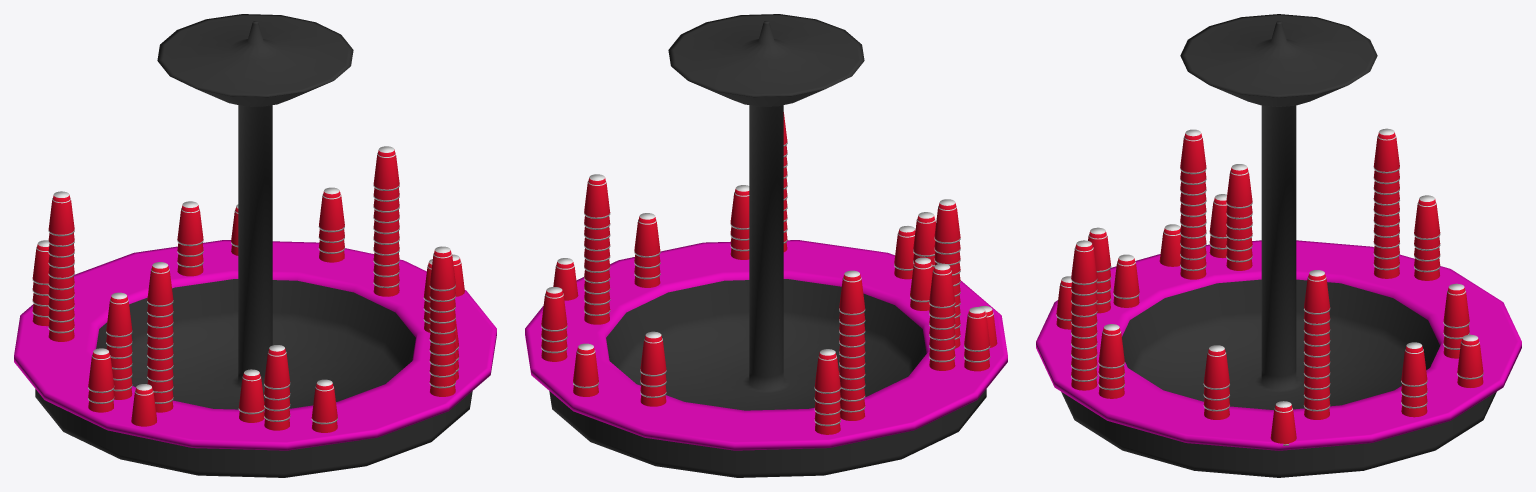
File: VodkaFountain_01.fbx
3 renders of one model, left to right at view 1: azimuth 30°, elevation 25°; view 2: azimuth 150°, elevation 25°; view 3: azimuth 270°, elevation 25°, orthographic.
Visible parts, largest first — view 1: Foutain, Cups.003, Cups.018, Cups.008, Cups.013, Cups.016, Cups.012, Cups.017, Cups.005, Cups.015, Cups.004, Cups.010 (+2 smaller); view 2: Foutain, Cups.018, Cups.003, Cups.016, Cups.013, Cups.004, Cups.007, Cups.017, Cups.005, Cups.015, Cups.009, Cups.006 (+5 smaller); view 3: Foutain, Cups.008, Cups.013, Cups.003, Cups.018, Cups.016, Cups.004, Cups.009, Cups.017, Cups.007, Cups.005, Cups.012 (+6 smaller).
Part boxes in pixels (<box>): Foutain: <box>14,14,496,477</box>; Cups.003: <box>48,191,74,341</box>; Cups.018: <box>373,146,399,296</box>; Cups.008: <box>429,246,455,396</box>; Cups.013: <box>147,262,173,412</box>; Cups.016: <box>106,292,132,399</box>; Cups.012: <box>264,345,290,430</box>; Cups.017: <box>318,187,344,262</box>; Cups.005: <box>177,201,203,276</box>; Cups.015: <box>88,348,114,412</box>; Cups.004: <box>32,240,49,326</box>; Cups.010: <box>311,379,337,432</box>; Foutain: <box>525,14,1007,477</box>; Cups.018: <box>584,174,610,324</box>; Cups.003: <box>839,270,865,420</box>; Cups.016: <box>929,263,955,370</box>; Cups.013: <box>934,199,960,348</box>; Cups.004: <box>814,349,840,434</box>; Cups.007: <box>634,213,660,287</box>; Cups.017: <box>541,287,567,361</box>; Cups.005: <box>640,331,666,406</box>; Cups.015: <box>964,307,990,371</box>; Cups.009: <box>730,185,749,259</box>; Cups.006: <box>573,343,599,396</box>; Foutain: <box>1036,14,1521,477</box>; Cups.008: <box>1071,240,1097,390</box>; Cups.013: <box>1180,129,1206,279</box>; Cups.003: <box>1373,128,1399,278</box>; Cups.018: <box>1304,270,1330,419</box>; Cups.016: <box>1226,164,1252,270</box>; Cups.004: <box>1414,195,1440,280</box>; Cups.009: <box>1098,324,1124,398</box>; Cups.017: <box>1401,342,1427,417</box>; Cups.007: <box>1203,345,1229,419</box>; Cups.005: <box>1443,283,1469,358</box>; Cups.012: <box>1088,227,1111,313</box>.
Bounding box in the file's own units: 338 × 278 × 338.
